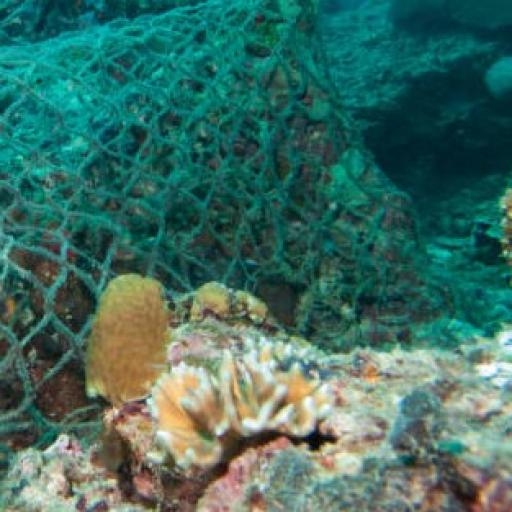net: (0, 0, 427, 430)
